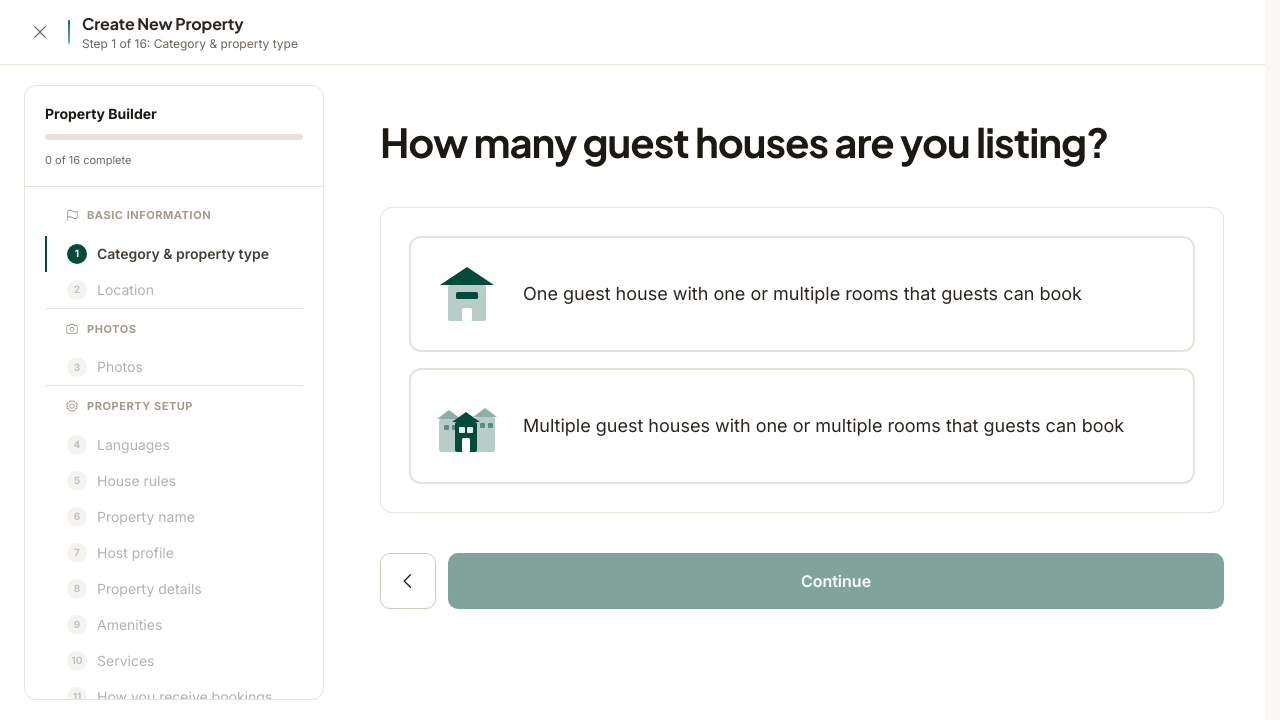
PropertyHomeCountPage — how many are you listing › goes back to the category list with the booking type kept
Click the button named "Back" at (408, 581), box [380,553,436,609]
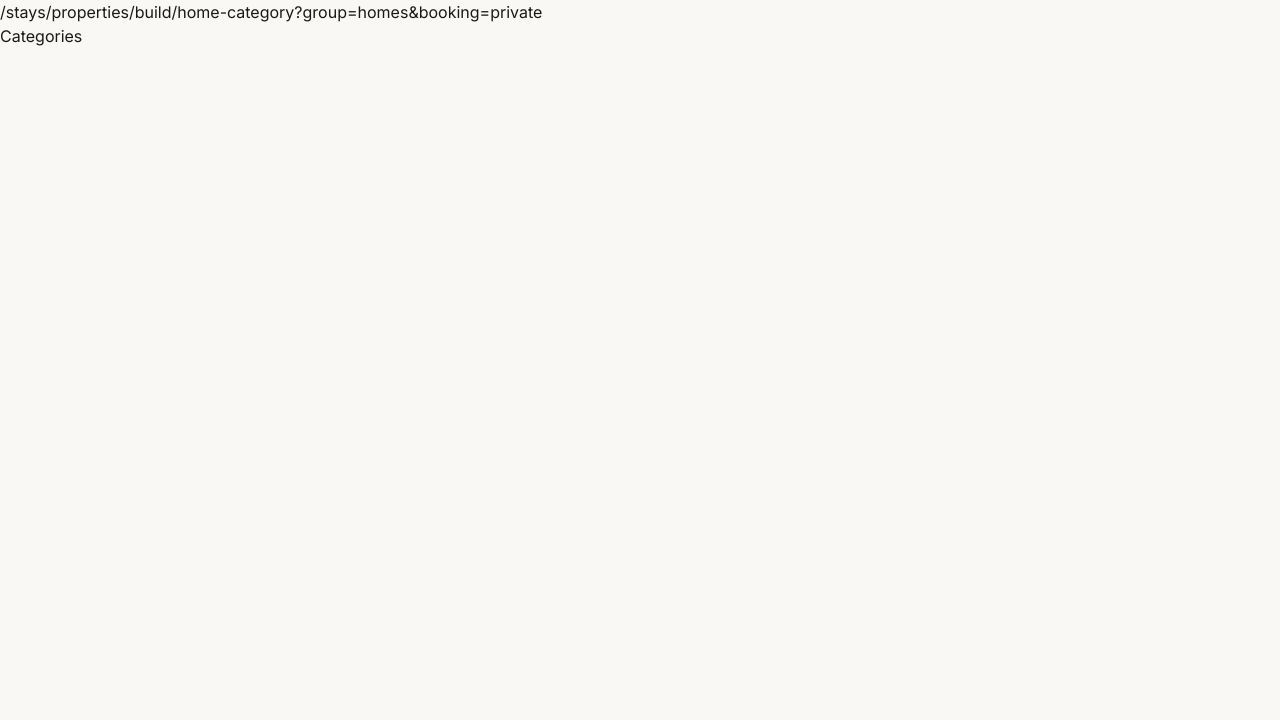
Expected: the text with test id "location" reads "/stays/properties/build/home-category?group=homes&booking=private", [0,2,542,22]
